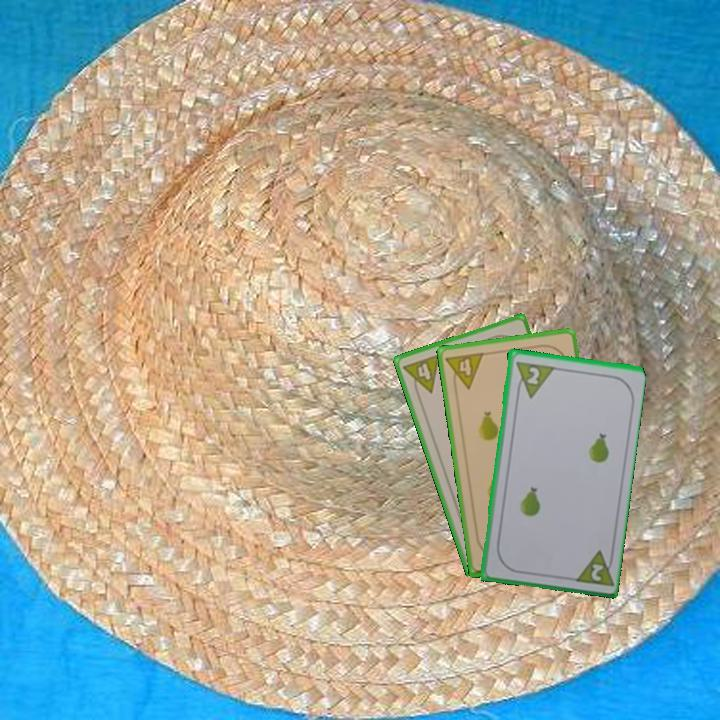2p: (569, 545, 617, 589), (512, 357, 555, 400)
4p: (399, 351, 443, 400), (442, 349, 487, 393)
